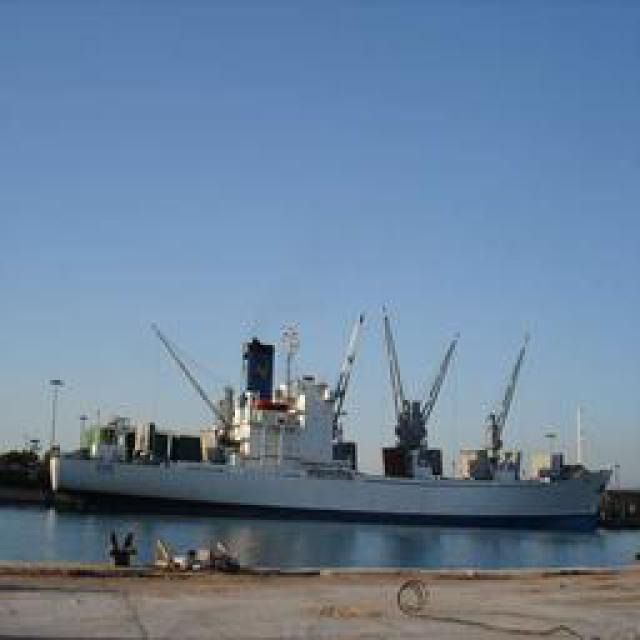Ship: (46, 306, 611, 529)
